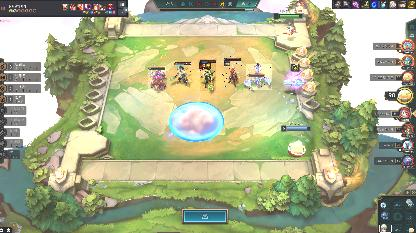1_jax: (200, 59, 216, 91)
1_nasus: (174, 61, 192, 87)
1_rakan: (222, 56, 242, 88)
1_sejuani: (148, 66, 166, 92)
1_skarner: (246, 64, 272, 90)
